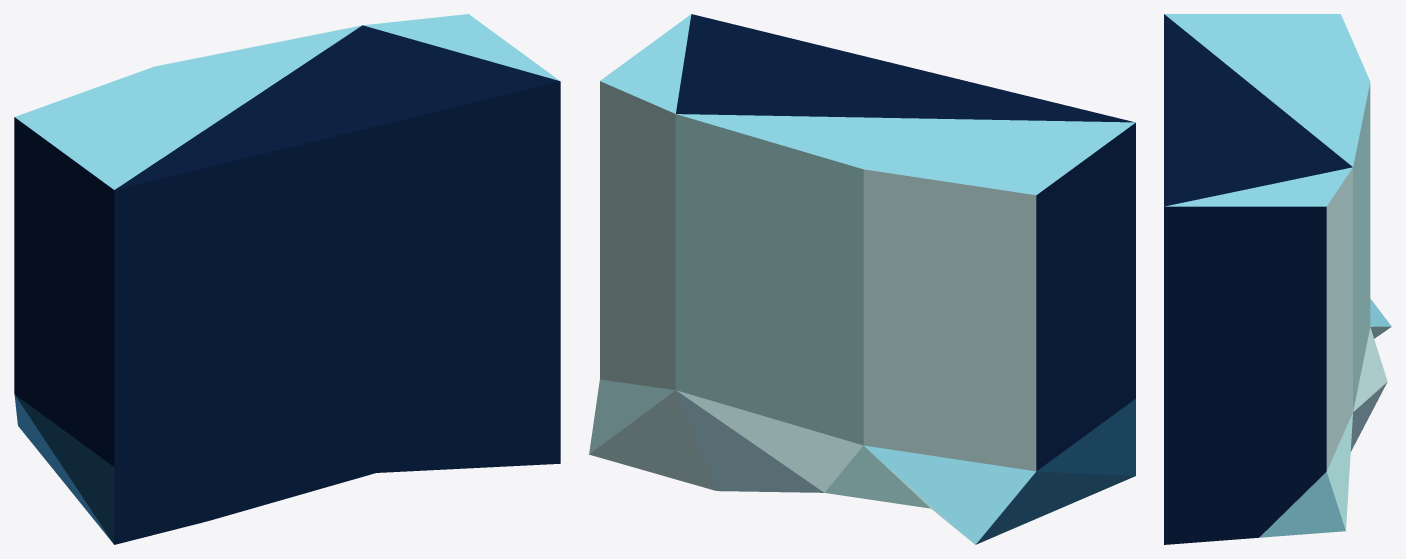
Rendered from guard_middle_wn_2.fbx.
The picture shows the model from 3 angles, left to right: view 1: azimuth 30°, elevation 25°; view 2: azimuth 150°, elevation 25°; view 3: azimuth 270°, elevation 25°; orthographic projection. The views are drawn at different scales.
Visible parts, largest first — view 1: Cube.007; view 2: Cube.007; view 3: Cube.007.
Part boxes in pixels (left/top/right/bottom): Cube.007: left=14, top=14, right=560, bottom=544; Cube.007: left=589, top=14, right=1135, bottom=544; Cube.007: left=1164, top=14, right=1391, bottom=544.
Size of the model in its own units: 1036 by 849 by 518.
